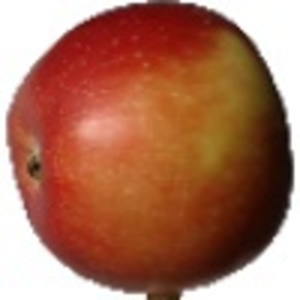maçã braeburn: (2, 3, 294, 294)
